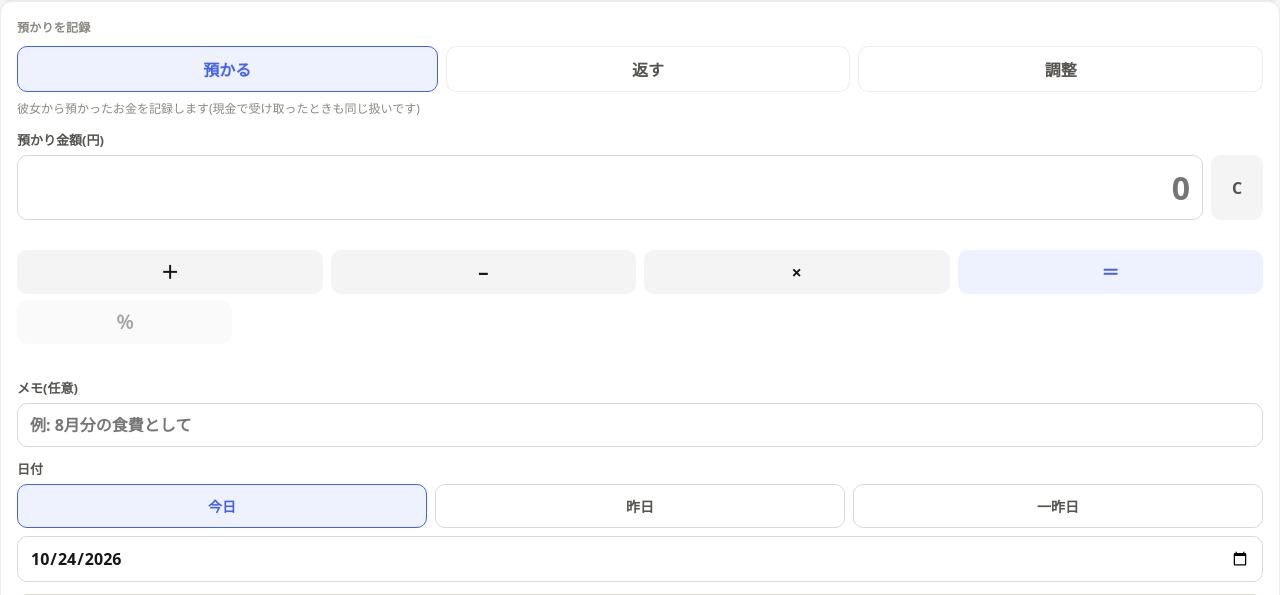
Test: 記録カードが保存する種別と符号 › 種類を切り替えると、見出し・金額欄・保存ボタンがそろって変わる
The width and height of the screenshot is (1280, 595).
Check: the heading "預かりを記録" is shown, box x1=17 y1=19 x2=90 y2=36
Click the button "返す" at (648,69), box x1=446 y1=46 x2=850 y2=92
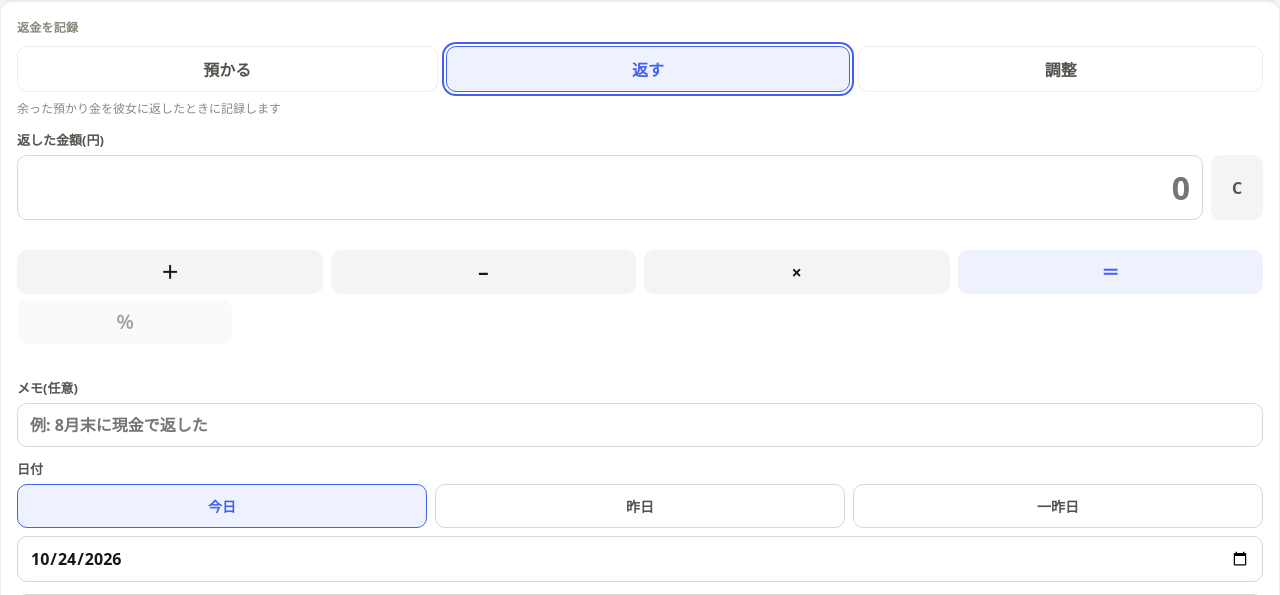
Check: the field named "返した金額(円)" is shown, box x1=17 y1=155 x2=1203 y2=220
Check: the heading "返金を記録" is shown, box x1=17 y1=19 x2=78 y2=36
Click the button "調整" at (1061,69), box x1=858 y1=46 x2=1263 y2=92
(page scrolled)
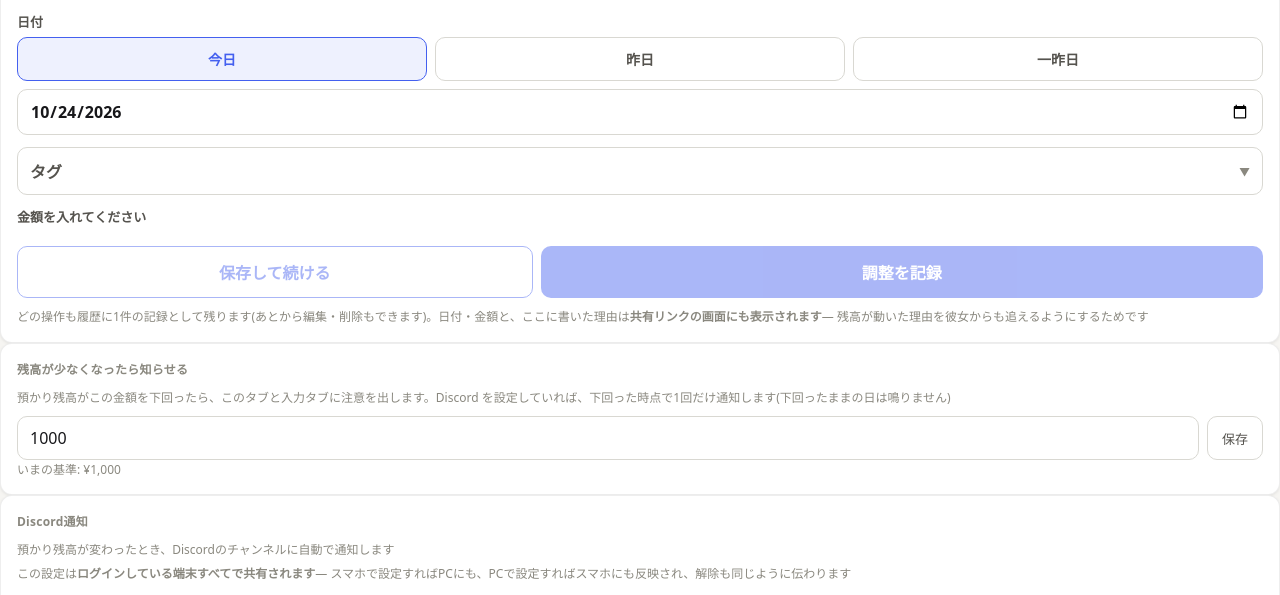
Check: the button "調整を記録" is shown, box x1=540 y1=246 x2=1263 y2=298
